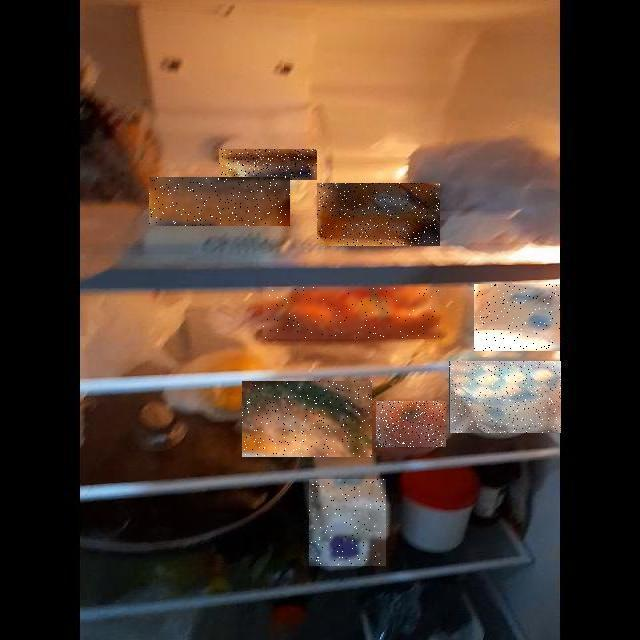Butter: (317, 183, 440, 246)
Carrot: (263, 287, 439, 339)
Cheese: (149, 177, 290, 226)
Chillies: (243, 381, 373, 457)
Milk: (309, 479, 386, 566)
Tomato Paste: (376, 401, 446, 447)
Yoghurt: (449, 361, 561, 433), (474, 284, 560, 351), (219, 149, 317, 180)
